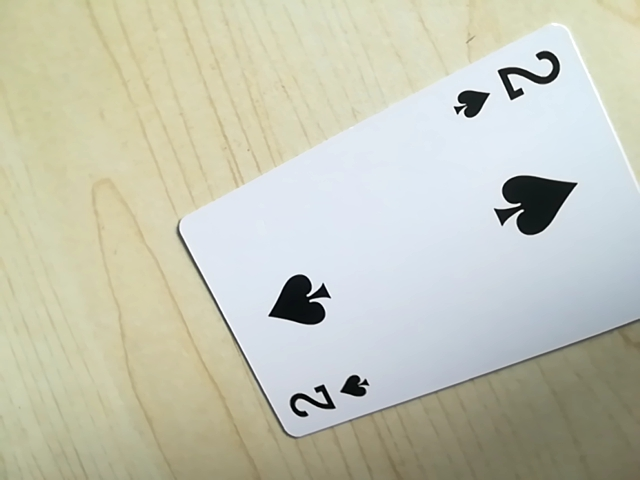ht 2: (446, 44, 569, 127), (277, 369, 375, 431)
